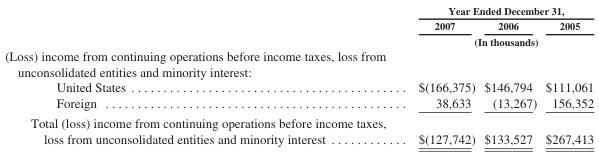table: (4, 4, 593, 145)
table column: (4, 4, 401, 145), (401, 4, 479, 145), (479, 4, 540, 145), (540, 4, 593, 145)
table column header: (4, 4, 593, 47)
table projected row header: (4, 47, 593, 79)
table row: (4, 112, 593, 145), (4, 47, 593, 79), (4, 94, 593, 112), (4, 17, 593, 33), (4, 79, 593, 94), (4, 33, 593, 47), (4, 4, 593, 17)
table spanning cell: (401, 33, 593, 47), (401, 4, 593, 17)
